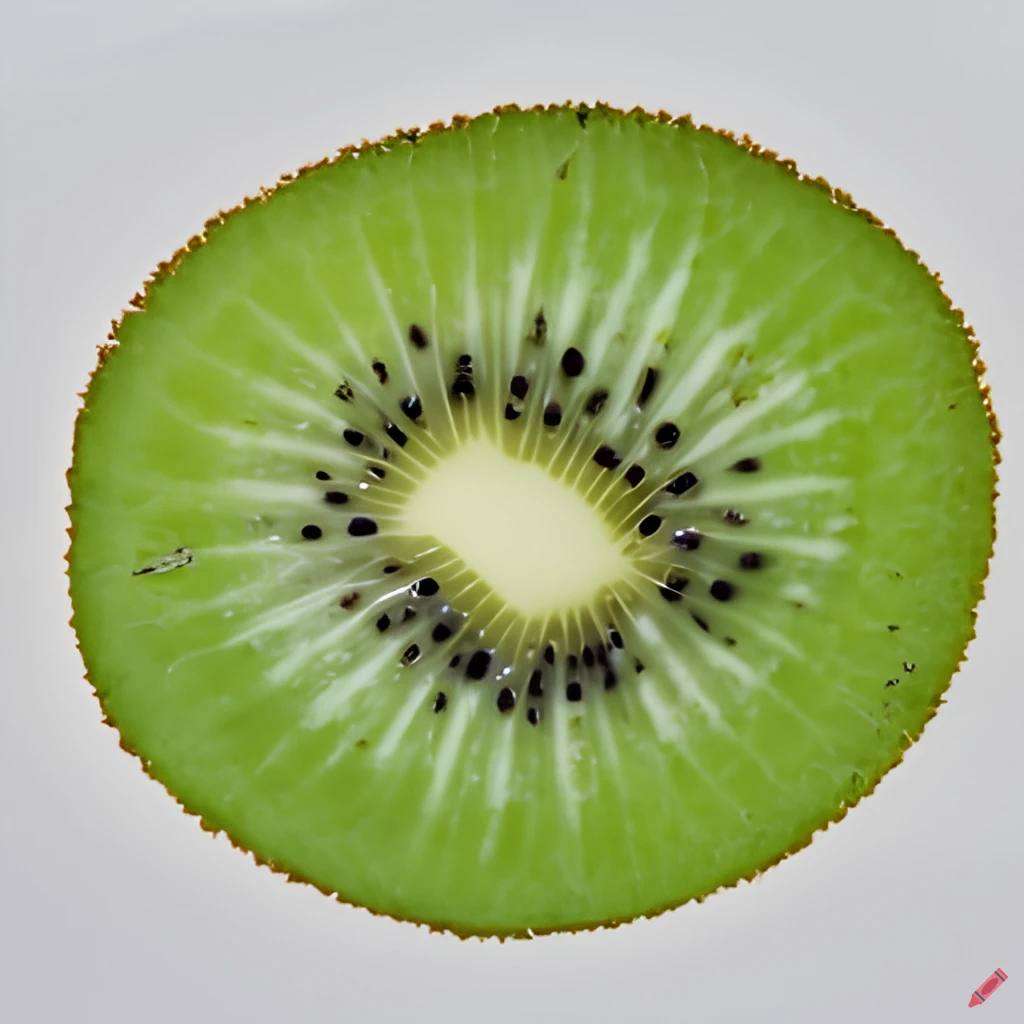Kiwi: (52, 83, 1004, 962)
